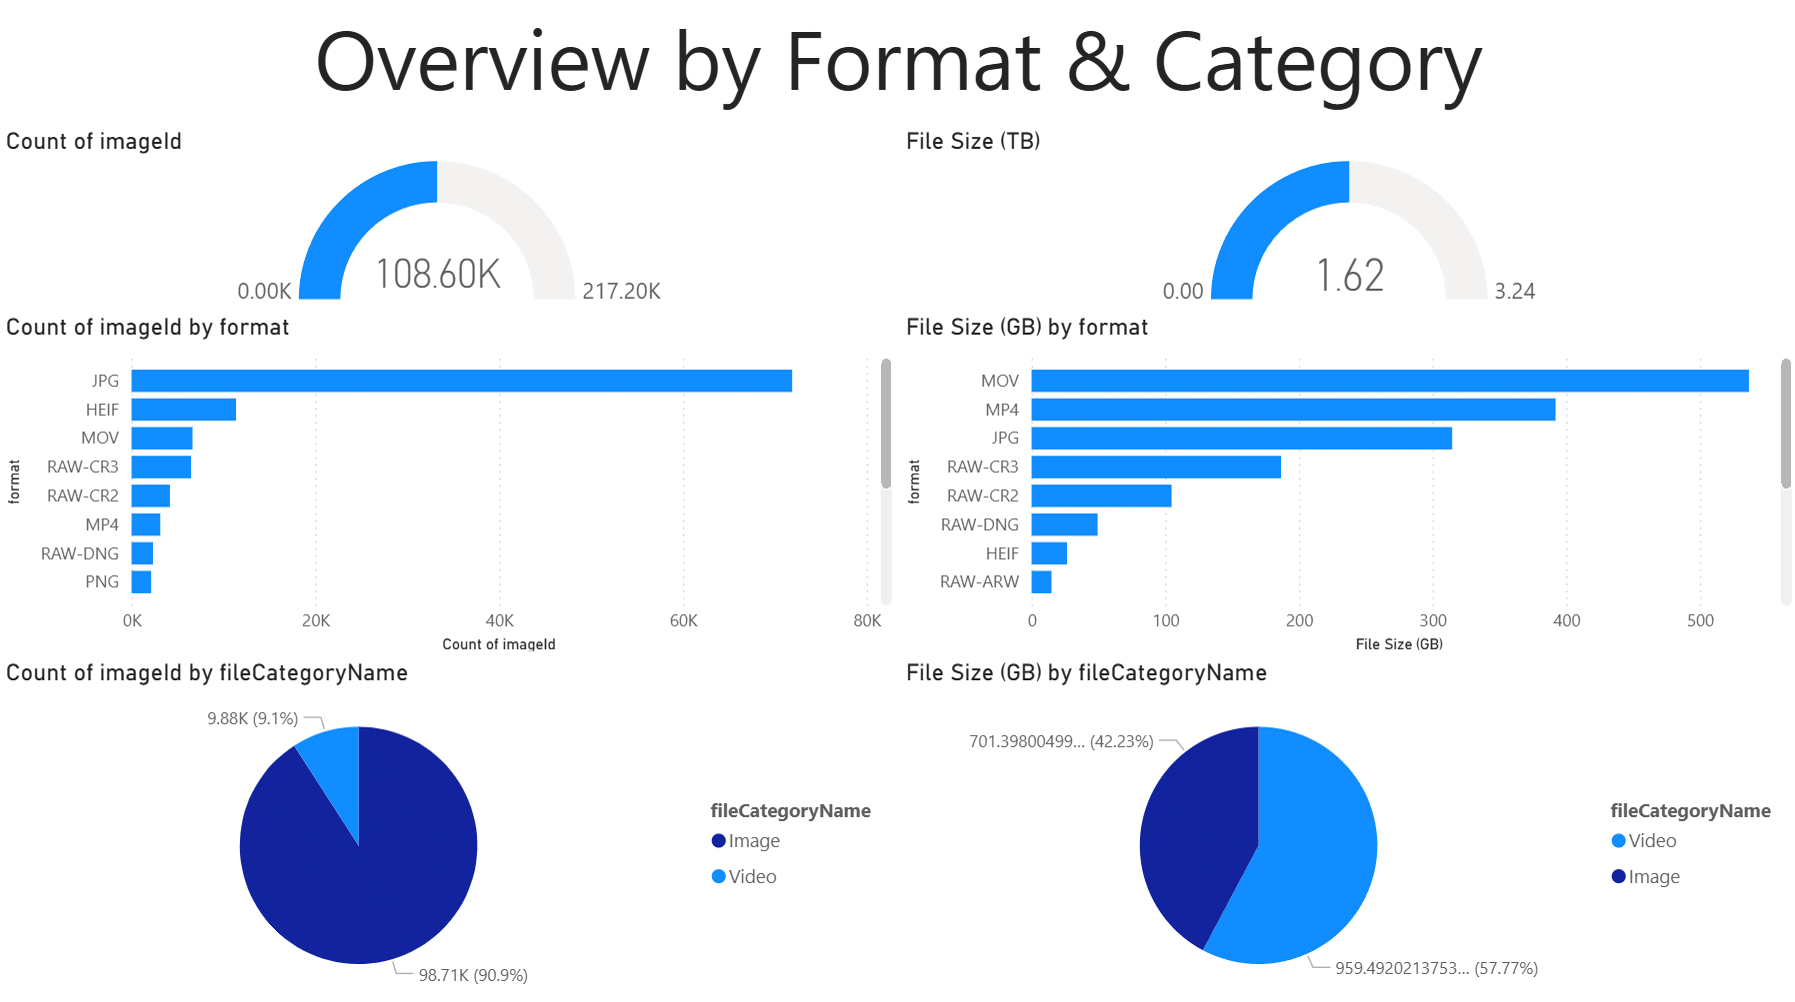

What the dashboard file says about the page in this screenshot:
{"tool":"powerbi","page":{"name":"Overview by Format & Category","canvas":[1280,720],"ordinal":0},"visuals":[{"type":"group","id":"g1","title":"Group 1","box":[0,95,1279.6,625.4],"z":0},{"type":"pieChart","fields":{"Category":["files.fileCategoryName"],"Y":["CountNonNull(files.imageId)"]},"box":[0,474.2,640,246.5],"z":0,"group":"g1"},{"type":"textbox","box":[0,0,1280,94.5],"z":1000},{"type":"pieChart","fields":{"Category":["files.fileCategoryName"],"Y":["files.File Size (GB)"]},"box":[640,474.2,640,246.5],"z":1000,"group":"g1"},{"type":"gauge","fields":{"Y":["CountNonNull(files.imageId)"]},"box":[0,95,640,132.7],"z":2000,"group":"g1"},{"type":"gauge","fields":{"Y":["files.File Size (TB)"]},"box":[640,95,640,132.7],"z":3000,"group":"g1"},{"type":"clusteredBarChart","fields":{"Category":["files.format"],"Y":["files.File Size (GB)"]},"box":[640,227.7,640,246.5],"z":4000,"group":"g1"},{"type":"clusteredBarChart","fields":{"Category":["files.format"],"Y":["CountNonNull(files.imageId)"]},"box":[0,227.7,640,246.5],"z":5000,"group":"g1"}]}

Visuals, with their boxes in screenshot pixels (x1, y1, x2, y2), scaled from the page's 1280x720 canvas onto the 1795x1002 screenshot:
"Group 1" group: {"left": 0, "top": 132, "right": 1794, "bottom": 1001}
pieChart - files.fileCategoryName x CountNonNull(files.imageId): {"left": 0, "top": 660, "right": 898, "bottom": 1001}
textbox: {"left": 0, "top": 0, "right": 1794, "bottom": 132}
pieChart - files.fileCategoryName x files.File Size (GB): {"left": 898, "top": 660, "right": 1794, "bottom": 1001}
gauge - CountNonNull(files.imageId): {"left": 0, "top": 132, "right": 898, "bottom": 317}
gauge - files.File Size (TB): {"left": 898, "top": 132, "right": 1794, "bottom": 317}
clusteredBarChart - files.format x files.File Size (GB): {"left": 898, "top": 317, "right": 1794, "bottom": 660}
clusteredBarChart - files.format x CountNonNull(files.imageId): {"left": 0, "top": 317, "right": 898, "bottom": 660}
